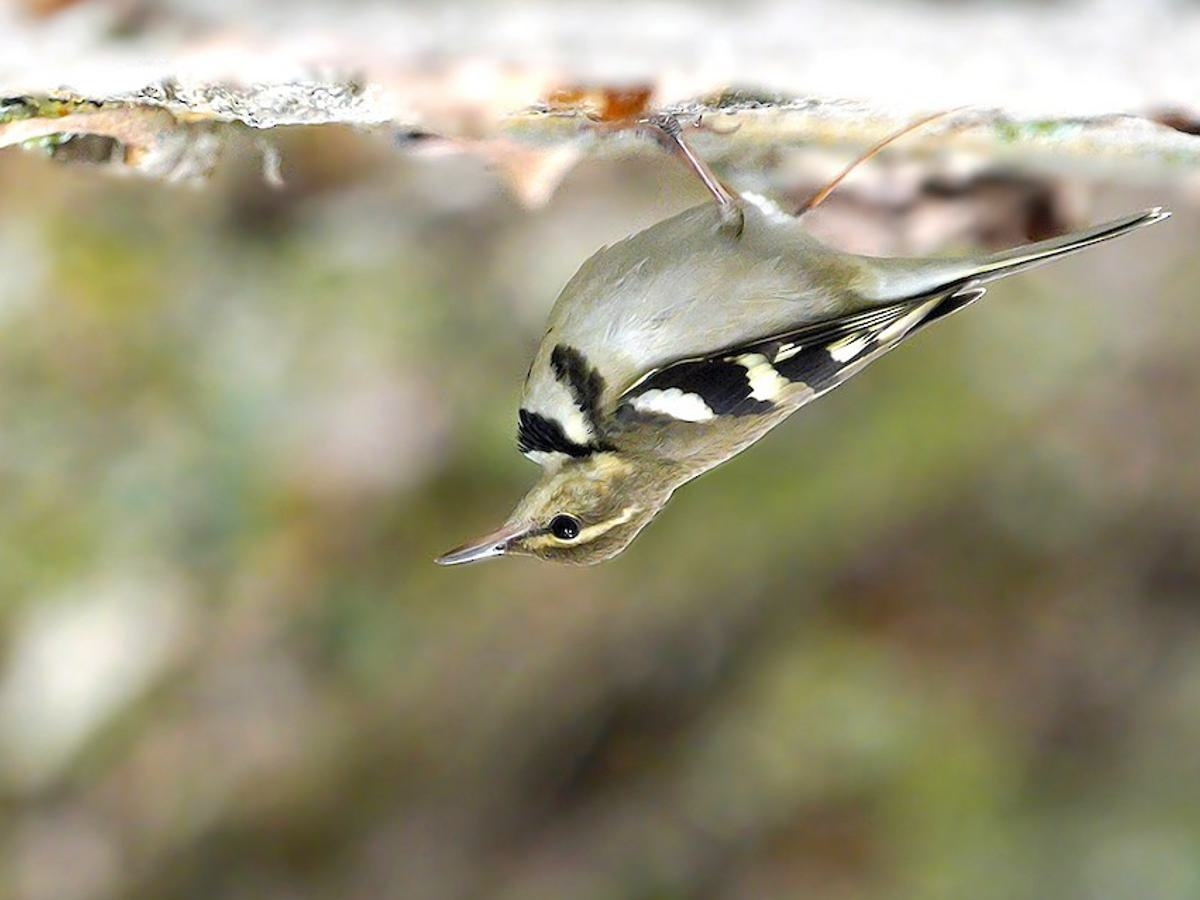wagtail: (421, 148, 1104, 614)
